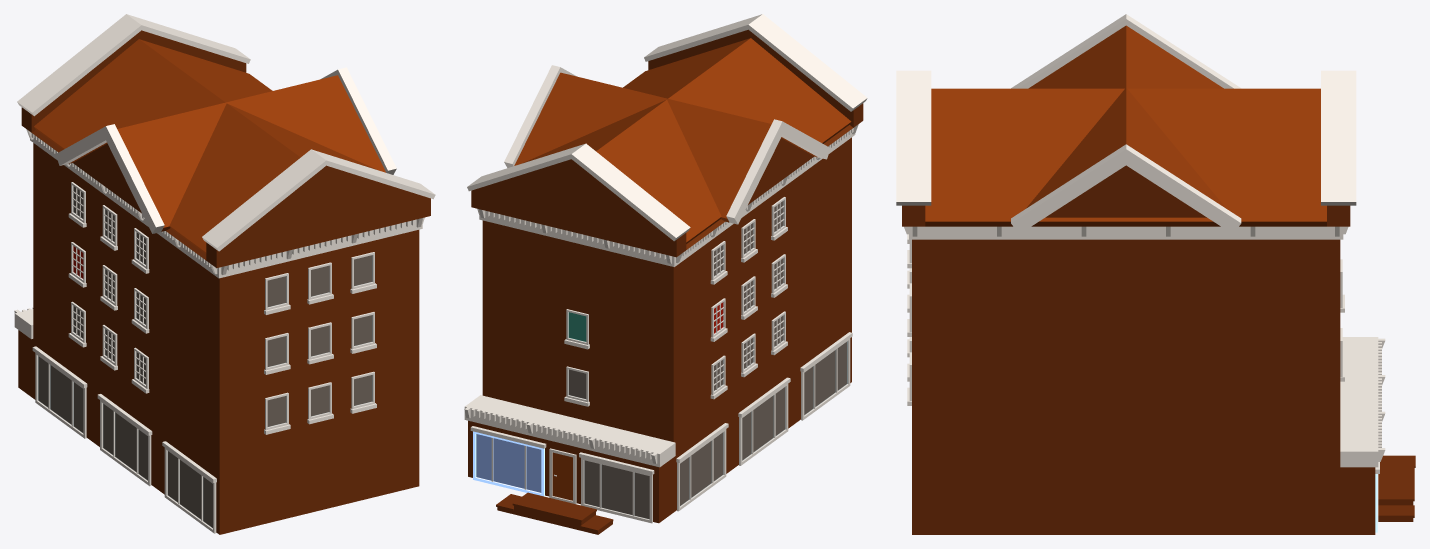
Rendered from Testing_1_v14.glb.
3 views of the same model, side by side, from view 1: azimuth 30°, elevation 25°; view 2: azimuth 150°, elevation 25°; view 3: azimuth 270°, elevation 25° (orthographic). The views are drawn at different scales.
Visible parts, largest first — view 1: Apartments, FirstFloor, Roof_1, Roof_7, Roof_5, Trim_218, Trim_217, Roof_4, Trim, Trim_220, Glass_34, Glass_32 (+18 smaller); view 2: Apartments, Roof_1, FirstFloor, Roof_7, FirstFloor_1, Roof_3, Trim_221, Trim_218, Trim_217, Roof_2, Trim, Glass_31 (+17 smaller); view 3: Apartments, Roof_1, FirstFloor, Roof_7, Trim, Trim_221, Trim_219, Trim_217, Trim_218, Roof_6, Trim_220, FirstFloor_1 (+1 smaller).
Boxes of the visible parts, bbox=[...] form: Apartments: bbox=[33, 143, 419, 456]; FirstFloor: bbox=[33, 320, 419, 534]; Roof_1: bbox=[34, 39, 379, 253]; Roof_7: bbox=[69, 75, 385, 231]; Roof_5: bbox=[224, 165, 428, 247]; Trim_218: bbox=[202, 149, 435, 251]; Trim_217: bbox=[17, 14, 250, 116]; Roof_4: bbox=[206, 198, 430, 268]; Trim: bbox=[26, 129, 424, 278]; Trim_220: bbox=[56, 124, 164, 233]; Glass_34: bbox=[38, 356, 83, 432]; Glass_32: bbox=[167, 451, 212, 528]; Apartments: bbox=[482, 137, 851, 437]; Roof_1: bbox=[521, 38, 851, 243]; FirstFloor: bbox=[482, 307, 851, 512]; Roof_7: bbox=[514, 72, 817, 222]; FirstFloor_1: bbox=[468, 420, 673, 523]; Roof_3: bbox=[473, 159, 669, 237]; Trim_221: bbox=[464, 395, 675, 467]; Trim_218: bbox=[644, 14, 867, 111]; Trim_217: bbox=[467, 143, 690, 241]; Roof_2: bbox=[471, 190, 686, 257]; Trim: bbox=[477, 124, 858, 266]; Glass_31: bbox=[584, 460, 649, 519]; Apartments: bbox=[912, 239, 1340, 444]; Roof_1: bbox=[925, 88, 1326, 226]; FirstFloor: bbox=[912, 445, 1340, 534]; Roof_7: bbox=[1026, 25, 1226, 208]; Trim: bbox=[904, 226, 1348, 239]; Trim_221: bbox=[1340, 337, 1378, 467]; Trim_219: bbox=[1011, 144, 1241, 233]; Trim_217: bbox=[1321, 70, 1356, 205]; Trim_218: bbox=[896, 70, 931, 205]; Roof_6: bbox=[1045, 165, 1206, 217]; Trim_220: bbox=[1011, 14, 1241, 88]; FirstFloor_1: bbox=[1340, 467, 1375, 534].
Size of the model in its own units: 13.68 by 19.91 by 22.23.
